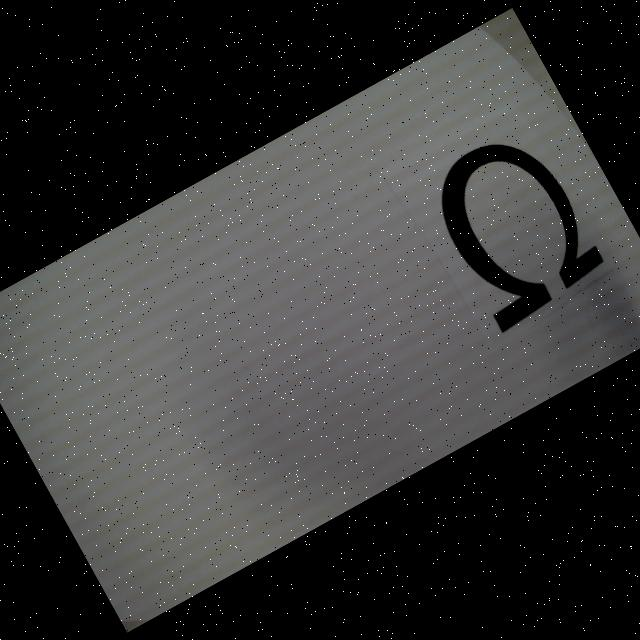OMEGA: (418, 121, 611, 333)
